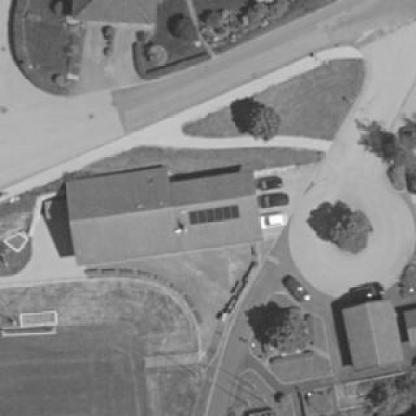solar-pv-panel: (189, 205, 240, 225)
